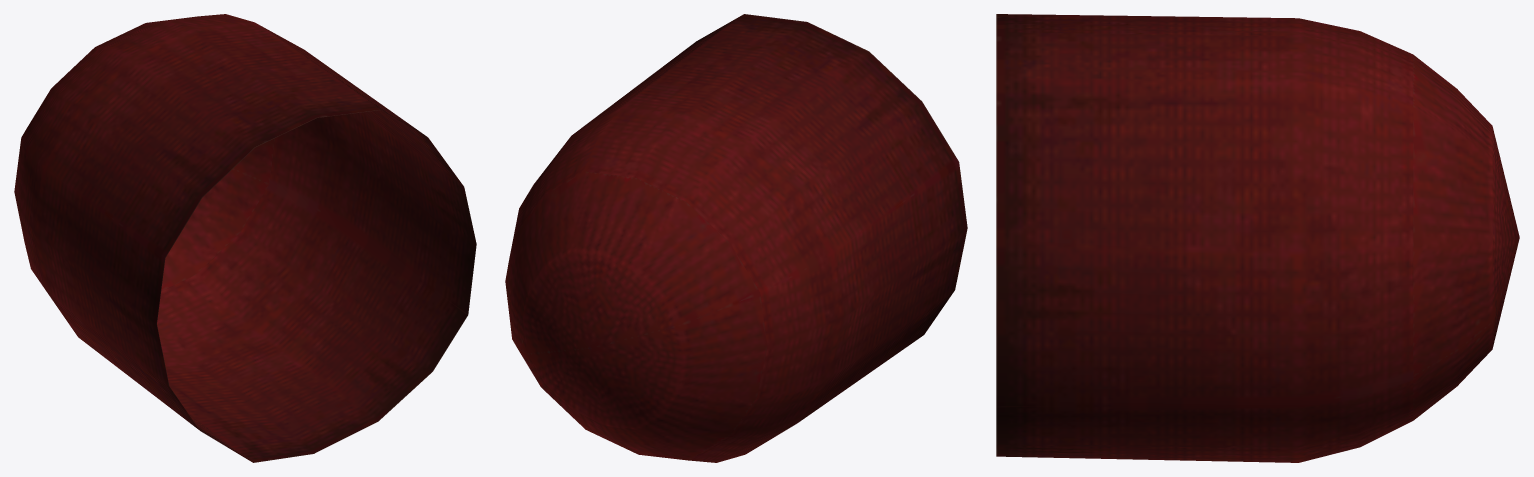
The model's file is warning_light_ceiling_rotate.dae.
3 views of the same model, side by side, from view 1: azimuth 30°, elevation 25°; view 2: azimuth 150°, elevation 25°; view 3: azimuth 270°, elevation 25° (orthographic). The views are drawn at different scales.
Parts seen in each view (by area): view 1: warning_light_ceiling_001; view 2: warning_light_ceiling_001; view 3: warning_light_ceiling_001.
Boxes of the visible parts, x1=… form: warning_light_ceiling_001: x1=14, y1=14, x2=476, y2=462; warning_light_ceiling_001: x1=505, y1=14, x2=967, y2=462; warning_light_ceiling_001: x1=996, y1=14, x2=1519, y2=462.
Bounding box in the file's own units: 0.1456 × 0.1459 × 0.1699.
